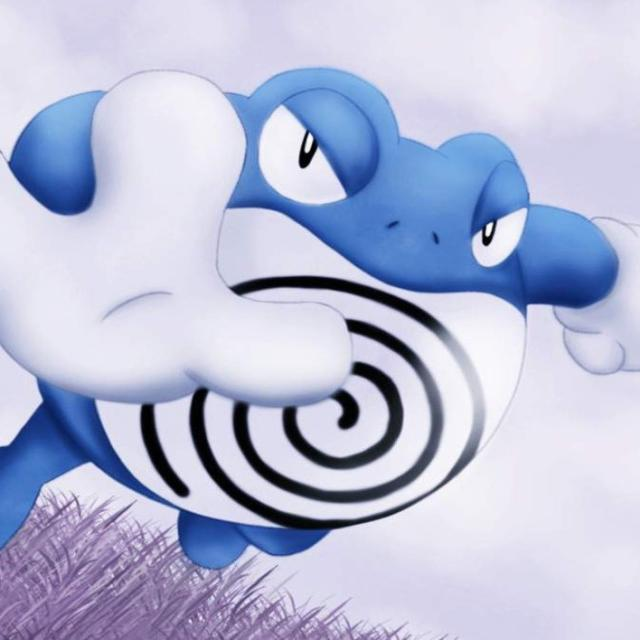Poliwrath: (42, 66, 534, 568)
